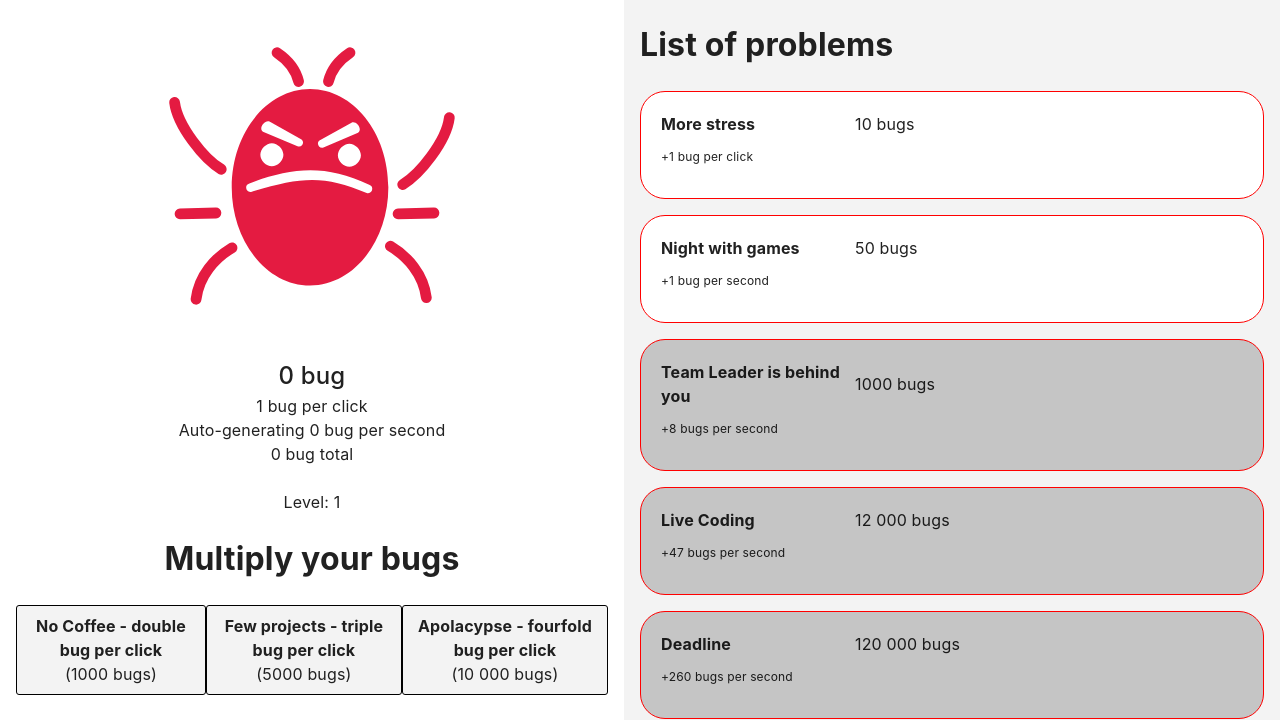
Test case: Shop using › renders with a single click
What coordinates should you click on to do the following:
click the picture with alt text "clicker"
I would click on:
 (312, 176)
Its box is [154,32,470,320].
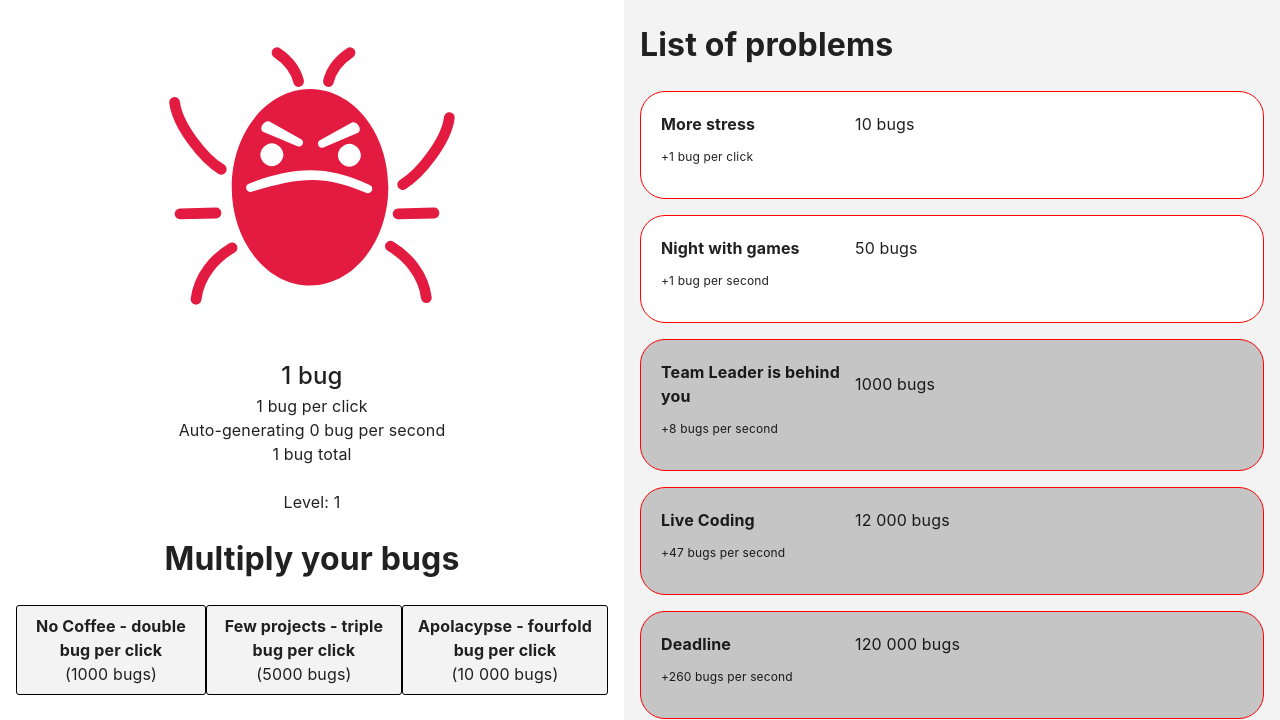
Expected: the 3rd text "0 bug" reads "1 bug", [281,361,343,390]
